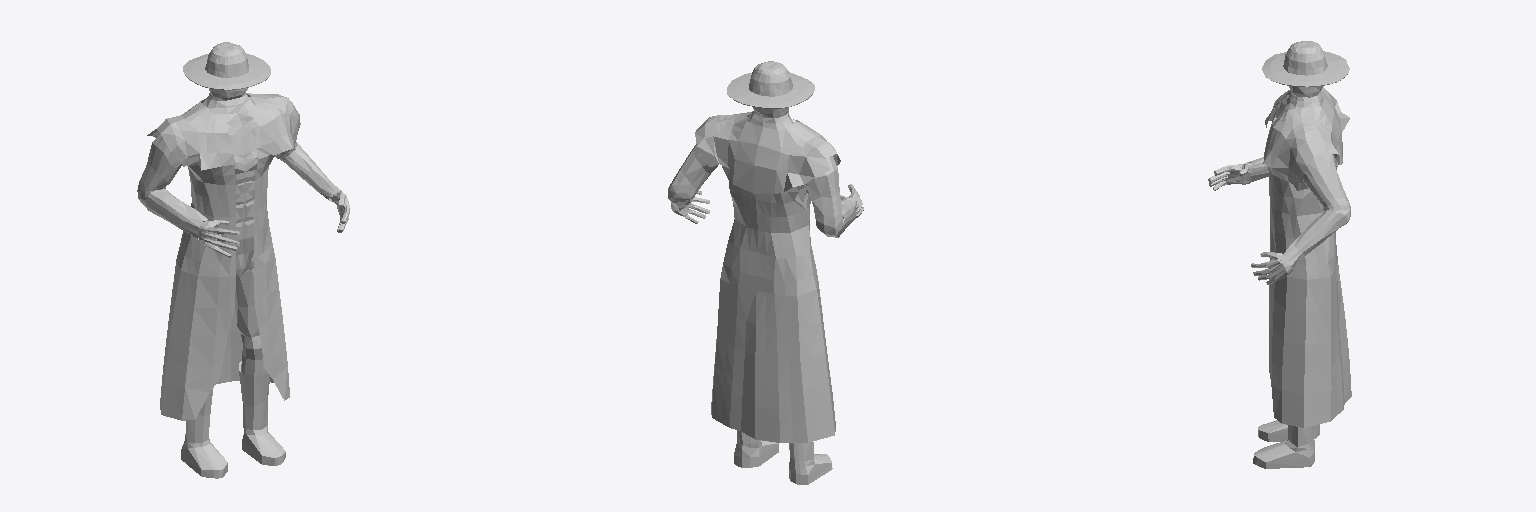
The model's file is U_W_Idle.obj.
The picture shows the model from 3 angles: view 1: azimuth 30°, elevation 25°; view 2: azimuth 150°, elevation 25°; view 3: azimuth 270°, elevation 25°; orthographic projection.
Visible parts, largest first — view 1: Undertaker_walk:Undertaker_4:Undertaker_4:Undertaker; view 2: Undertaker_walk:Undertaker_4:Undertaker_4:Undertaker; view 3: Undertaker_walk:Undertaker_4:Undertaker_4:Undertaker.
Boxes of the visible parts, <box> form: Undertaker_walk:Undertaker_4:Undertaker_4:Undertaker: <box>137,42,349,478</box>; Undertaker_walk:Undertaker_4:Undertaker_4:Undertaker: <box>668,61,863,484</box>; Undertaker_walk:Undertaker_4:Undertaker_4:Undertaker: <box>1208,41,1351,468</box>.
Size of the model in its own units: 1.39 by 2.9 by 0.926.